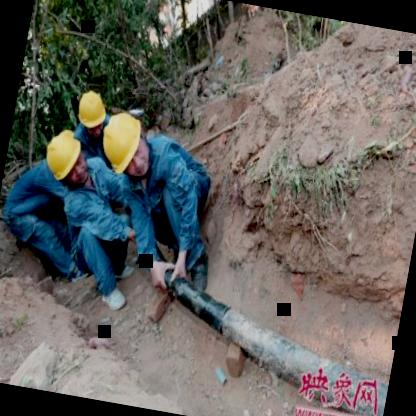helmet: (93, 106, 156, 182), (36, 126, 92, 191), (71, 85, 111, 138)
